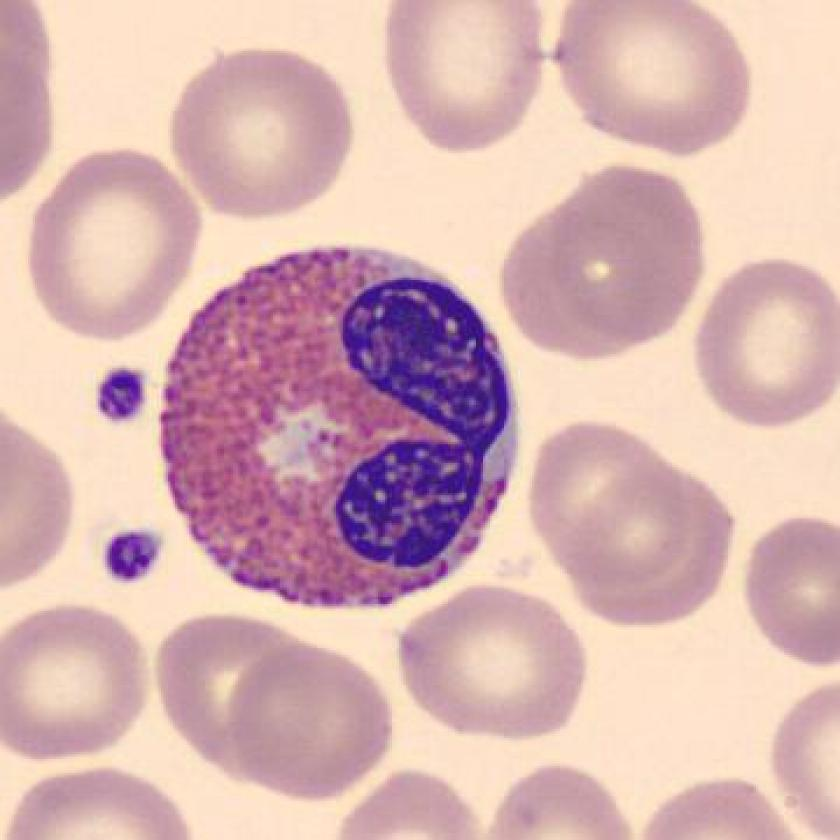eosinophil: (153, 232, 531, 626)
